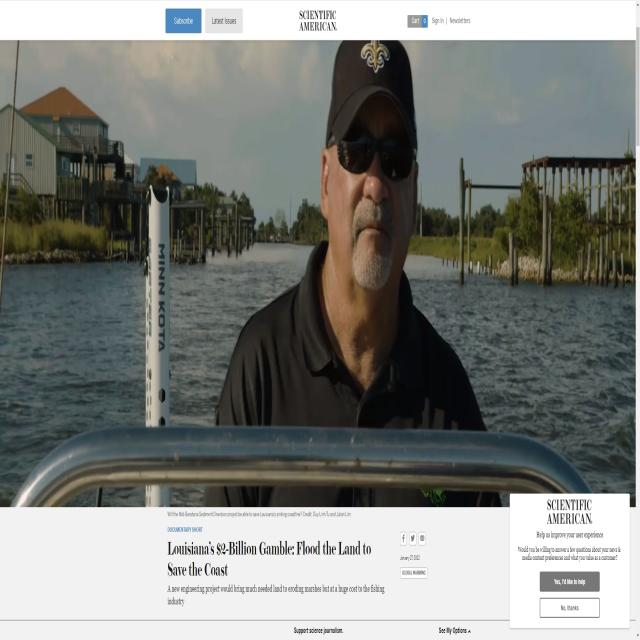menu-bar: (408, 8, 478, 32)
